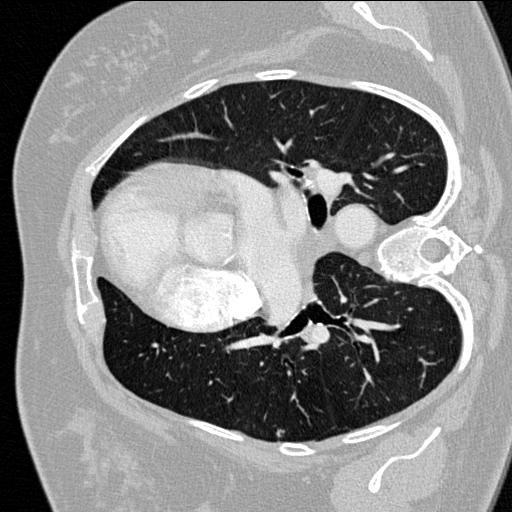nodule: (273, 427, 287, 441)
